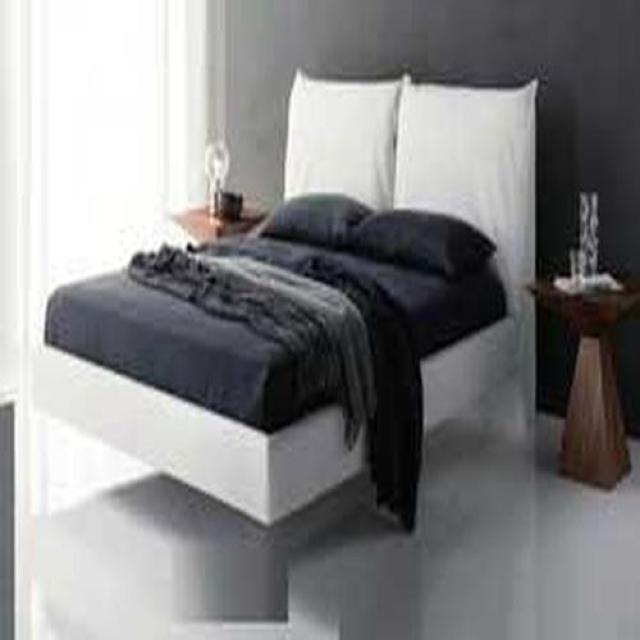bed: (33, 72, 536, 640)
